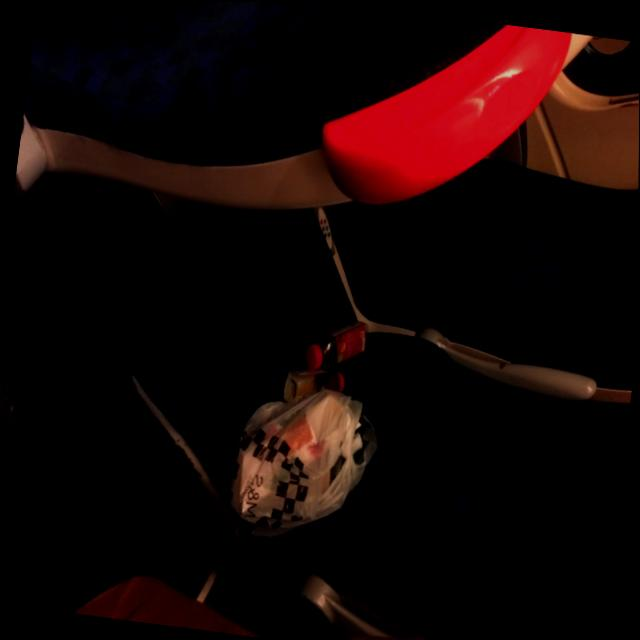Plastic: (218, 373, 386, 555), (297, 311, 375, 379), (279, 359, 348, 413)
